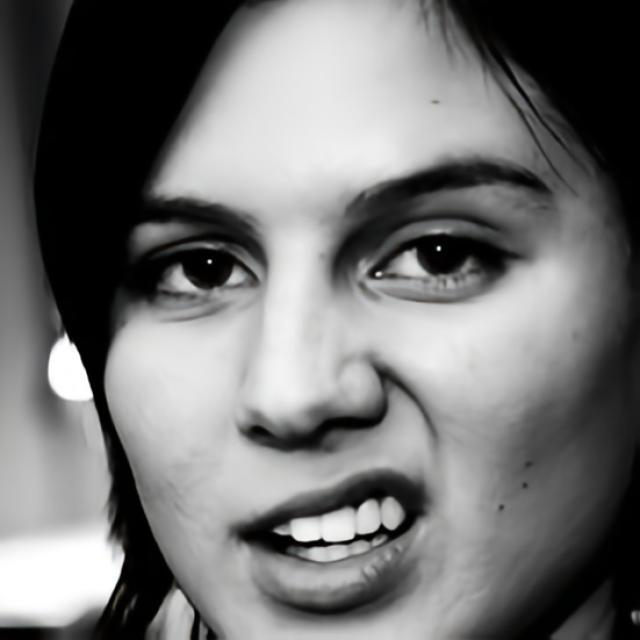disgust: (103, 0, 636, 640)
